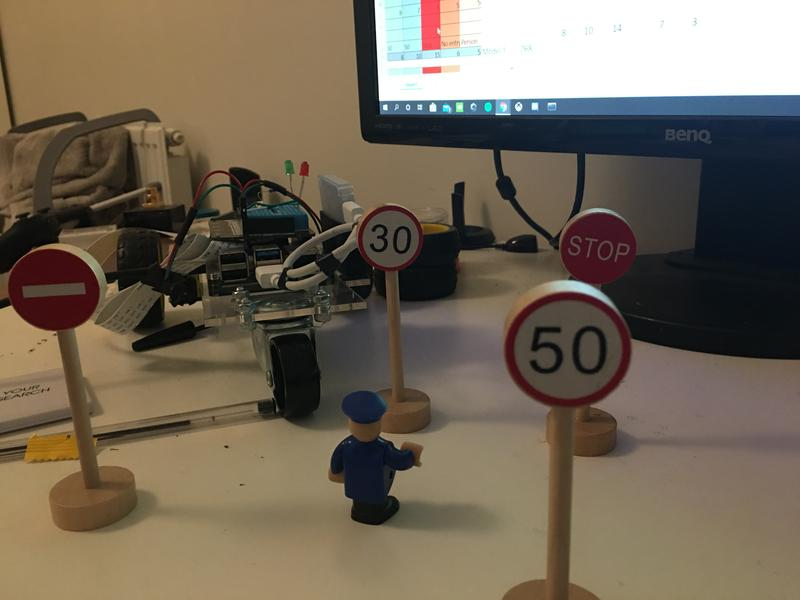Traffic_Sign_30: (358, 208, 424, 271)
Traffic_Sign_50: (507, 294, 628, 405)
Traffic_Sign_No_Entry: (8, 248, 99, 330)
Traffic_Sign_Stop: (561, 211, 635, 284)
person: (322, 389, 426, 530)
